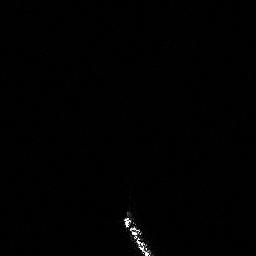ship: (121, 214, 156, 256)
